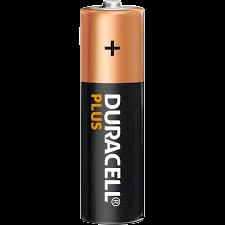Battery: (81, 0, 145, 225)
